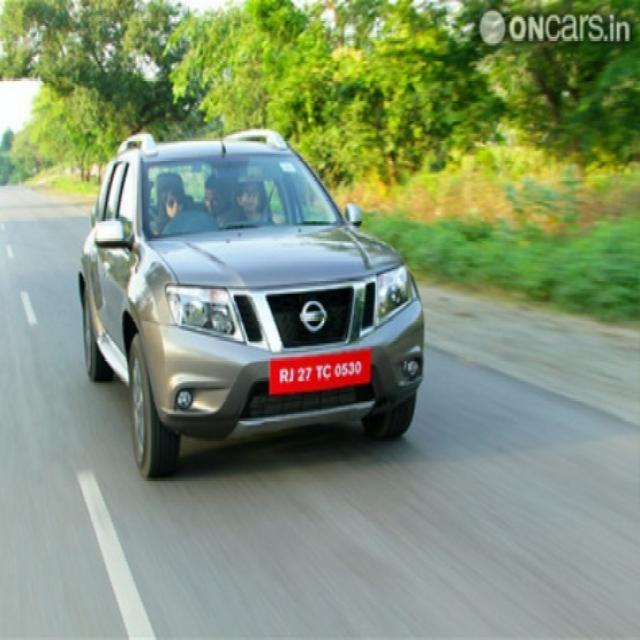license-plate: (268, 344, 370, 396)
